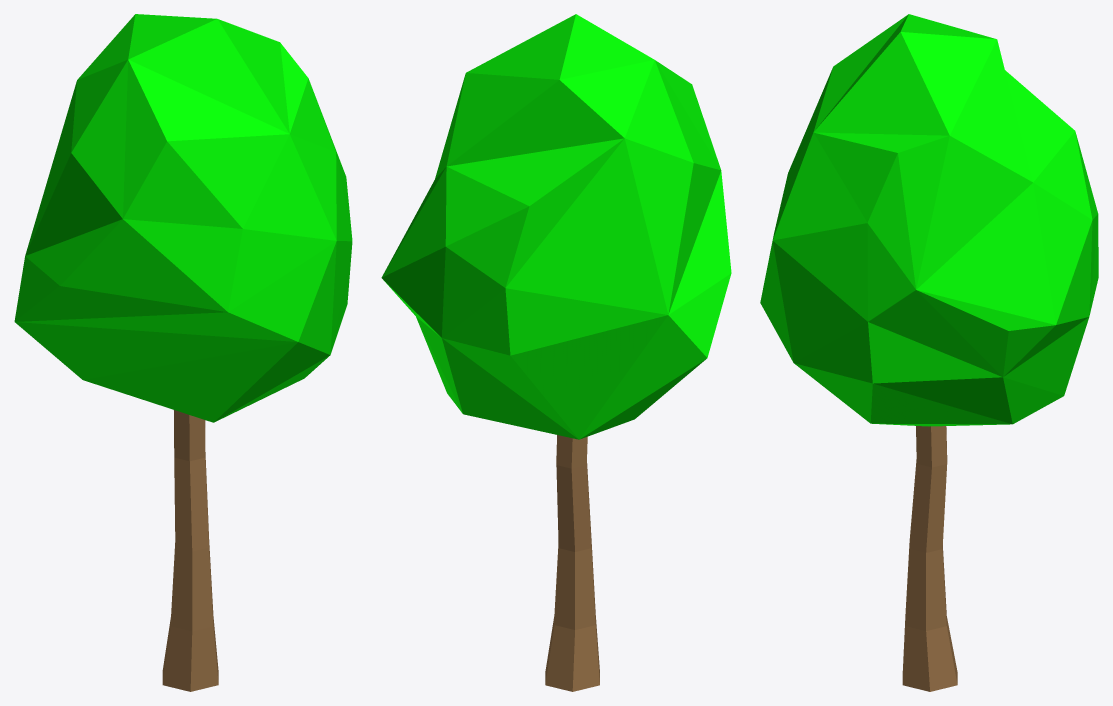
Rendered from SM_Tree_01.fbx.
The picture shows the model from 3 angles, left to right: view 1: azimuth 30°, elevation 25°; view 2: azimuth 150°, elevation 25°; view 3: azimuth 270°, elevation 25°; orthographic projection. The views are drawn at different scales.
Parts seen in each view (by area): view 1: Tree_01; view 2: Tree_01; view 3: Tree_01.
Part boxes in pixels (<box>): Tree_01: <box>14,14,352,691</box>; Tree_01: <box>381,14,731,691</box>; Tree_01: <box>760,14,1098,691</box>.
Size of the model in its own units: 841 by 1756 by 826.
